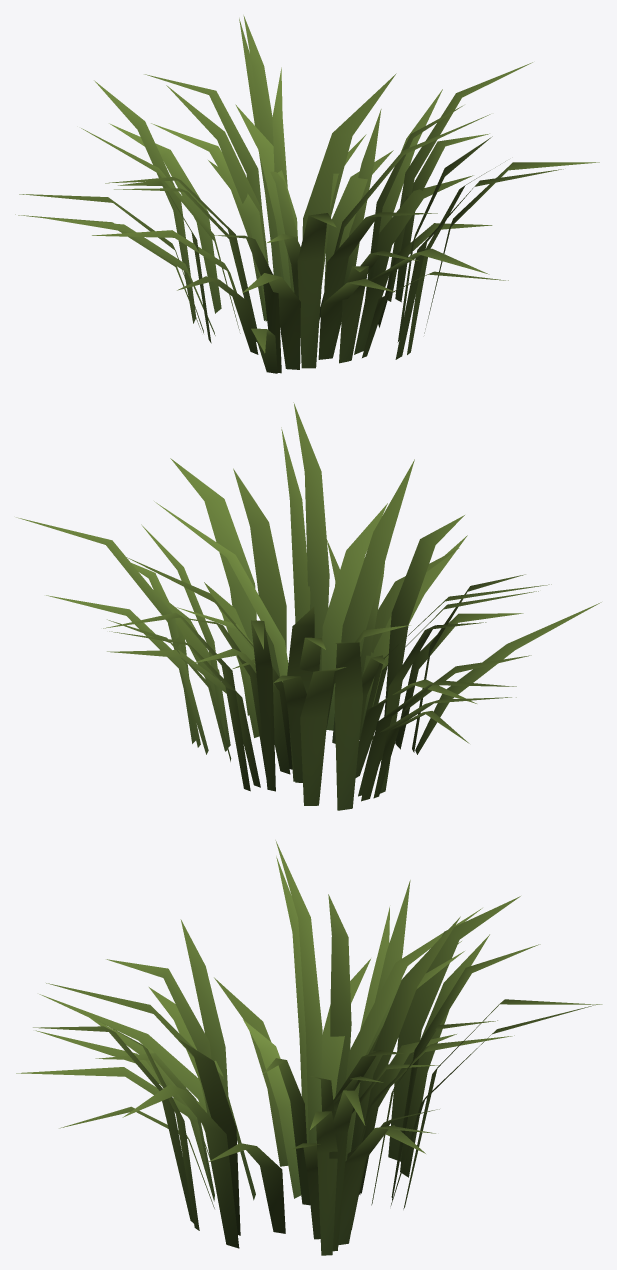
3 views of the same model, one above another, from view 1: azimuth 30°, elevation 25°; view 2: azimuth 150°, elevation 25°; view 3: azimuth 270°, elevation 25° (orthographic). The views are drawn at different scales.
Visible parts, largest first — view 1: low; view 2: low; view 3: low.
Part boxes in pixels (bbox=[...]): low: bbox=[15, 15, 599, 373]; low: bbox=[16, 402, 601, 810]; low: bbox=[16, 840, 602, 1255].
Size of the model in its own units: 0.6627 by 0.2781 by 0.5967.
